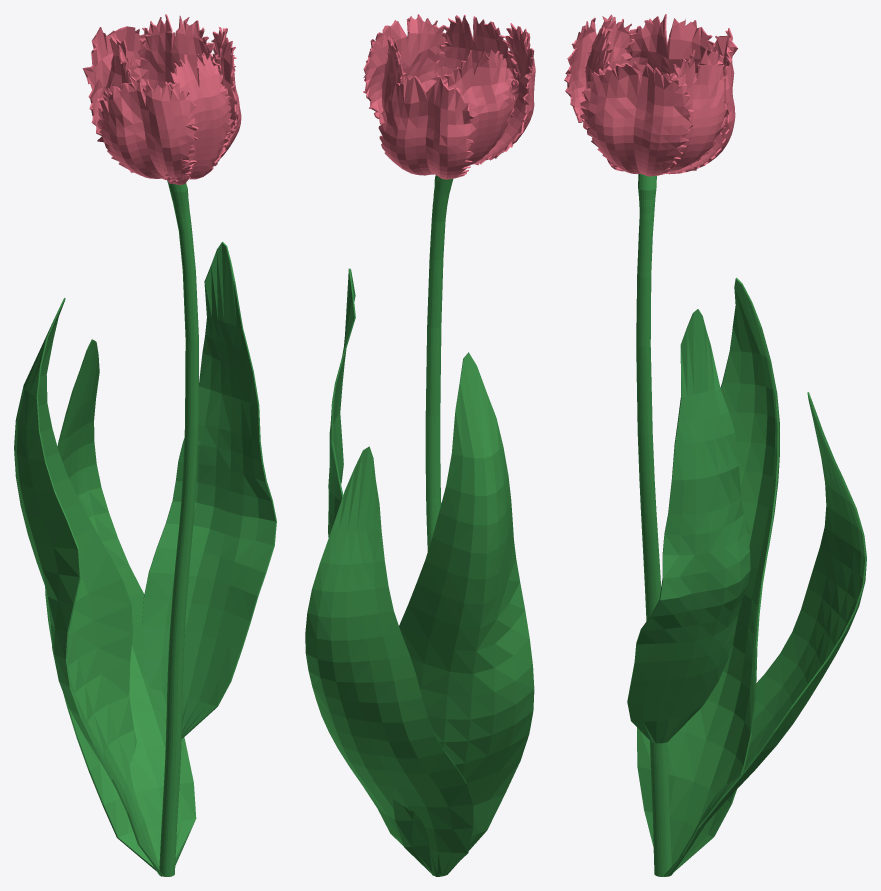
File: tulipe.rose.fbx
The picture shows the model from 3 angles, left to right: view 1: azimuth 30°, elevation 25°; view 2: azimuth 150°, elevation 25°; view 3: azimuth 270°, elevation 25°; orthographic projection.
Visible parts, largest first — view 1: Flaming_P0, Flaming_P1, Flaming_Pa, Flaming_10, Flaming_P9, Flaming_P4, Flaming_P6, Flaming_P7, Flaming_P5, Flaming_P8; view 2: Flaming_P1, Flaming_Pa, Flaming_P7, Flaming_10, Flaming_P8, Flaming_P5, Flaming_P4, Flaming_P9, Flaming_P0, Flaming_P6; view 3: Flaming_P0, Flaming_P1, Flaming_Pa, Flaming_P5, Flaming_10, Flaming_P6, Flaming_P8, Flaming_P9, Flaming_P7, Flaming_P4.
Boxes of the visible parts, x1,y1,x2,y2 form: Flaming_P0: (142,241,276,738); Flaming_P1: (14,298,162,876); Flaming_Pa: (45,339,196,870); Flaming_10: (159,180,198,876); Flaming_P9: (96,76,198,179); Flaming_P4: (162,52,234,184); Flaming_P6: (132,14,222,101); Flaming_P7: (82,26,146,135); Flaming_P5: (211,27,241,164); Flaming_P8: (106,35,165,179); Flaming_P1: (392,352,534,876); Flaming_Pa: (305,446,473,875); Flaming_P7: (378,75,475,179); Flaming_10: (425,175,453,875); Flaming_P8: (442,49,518,166); Flaming_P5: (363,14,446,124); Flaming_P4: (431,14,518,105); Flaming_P9: (472,23,535,165); Flaming_P0: (328,268,355,537); Flaming_P6: (381,36,405,110); Flaming_P0: (627,309,750,743); Flaming_P1: (637,277,779,876); Flaming_Pa: (664,392,866,876); Flaming_P5: (580,61,693,176); Flaming_10: (636,174,671,876); Flaming_P6: (655,47,727,175); Flaming_P8: (620,14,721,82); Flaming_P9: (564,14,636,129); Flaming_P7: (666,28,737,174); Flaming_P4: (584,27,624,171).
Size of the model in its own units: 307 by 1159 by 379.
